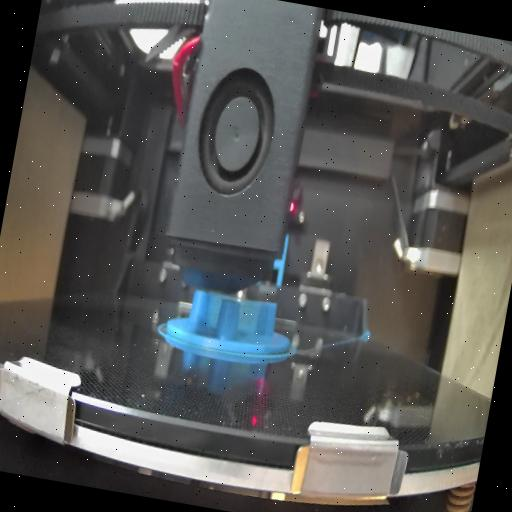stringing: (237, 297, 268, 334), (204, 294, 222, 329)
